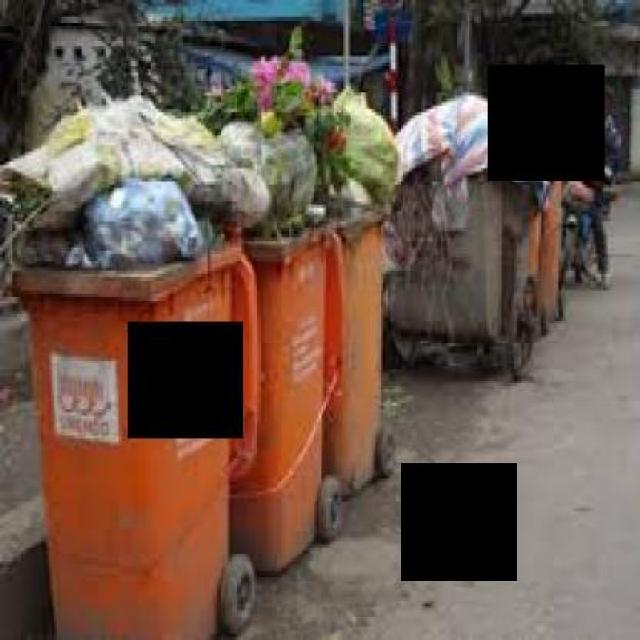plastic bag: (3, 95, 268, 288), (200, 40, 403, 234)
